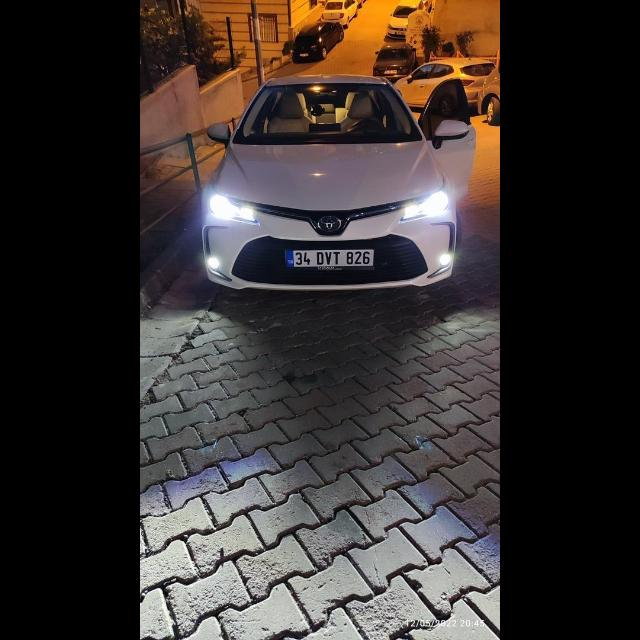Plaka: (286, 251, 374, 269)
